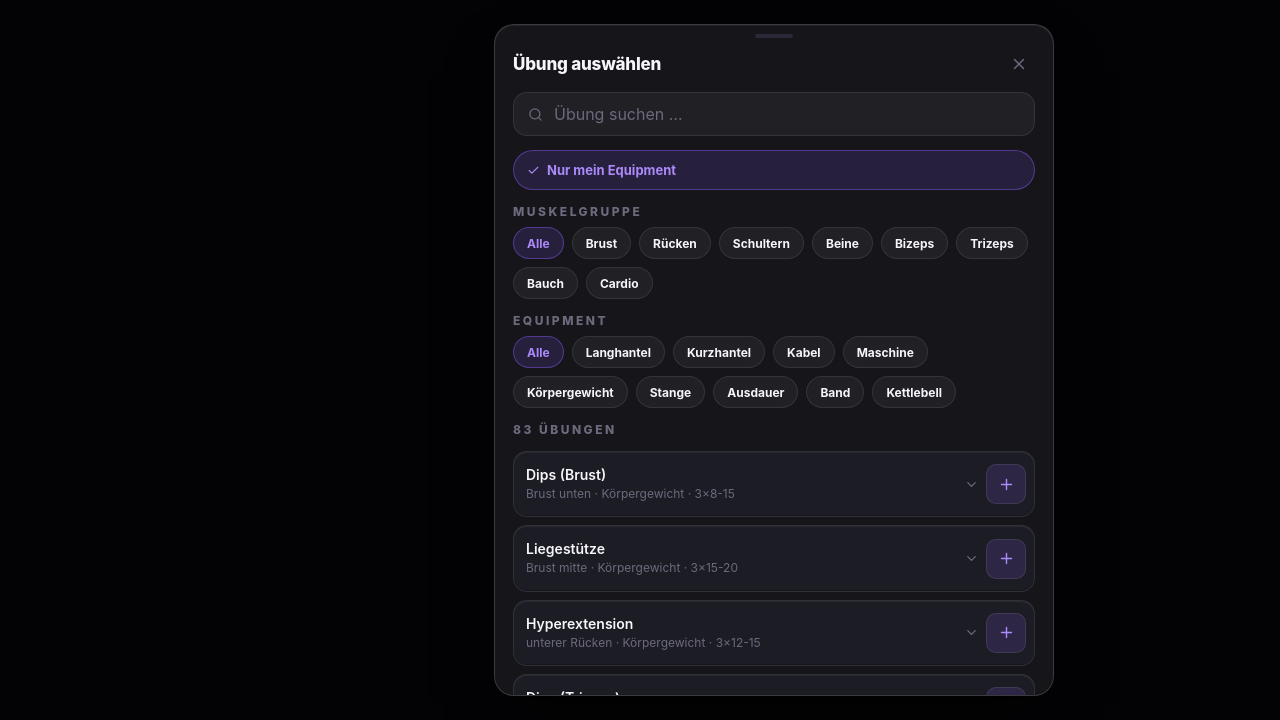
Test: ExercisePickerSheet renders and works › restricts to the user’s own equipment when asked
The width and height of the screenshot is (1280, 720).
Expected: the text "Bankdrücken" is not shown
Expected: the text "Liegestütze" is shown, [526,540,605,557]
Step 1. Click the button "Nur mein Equipment" → click(612, 170), box [513,150,1035,190]
(page scrolled)
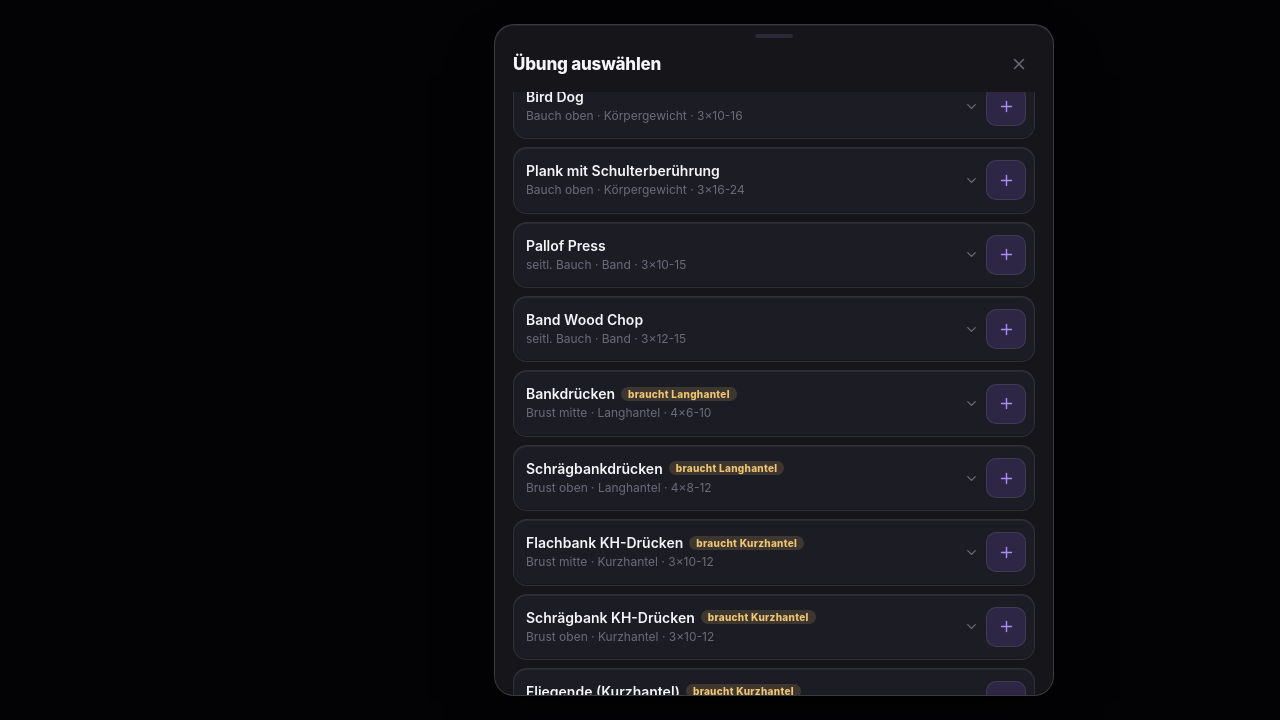
Expected: the text "Bankdrücken" is shown, [526,385,615,402]
